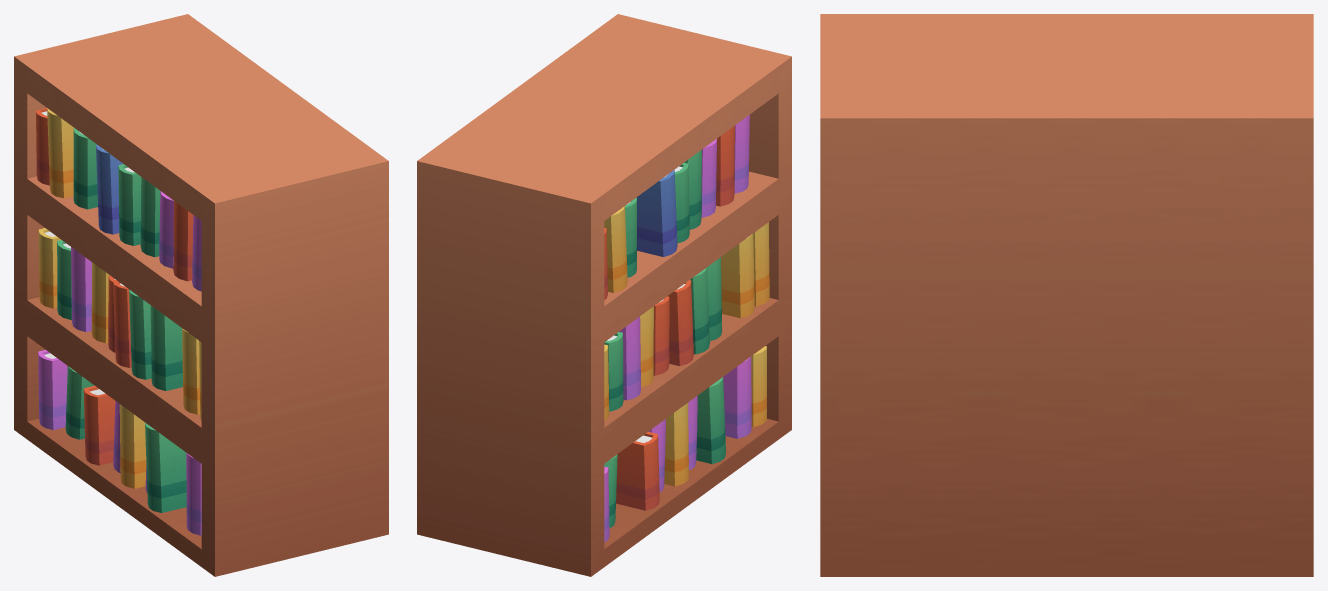
Rendered from bookshelf.fbx.
3 renders of one model, left to right at view 1: azimuth 30°, elevation 25°; view 2: azimuth 150°, elevation 25°; view 3: azimuth 270°, elevation 25°, orthographic. The views are drawn at different scales.
Visible parts, largest first — view 1: bookshelf, bookshelf-books-2, bookshelf-books-1, bookshelf-books-3; view 2: bookshelf, bookshelf-books-2, bookshelf-books-3, bookshelf-books-1; view 3: bookshelf.
Boxes of the visible parts, x1,y1,x2,y2 form: bookshelf: (14, 14, 388, 576); bookshelf-books-2: (38, 228, 201, 420); bookshelf-books-1: (36, 108, 201, 291); bookshelf-books-3: (38, 349, 201, 535); bookshelf: (417, 14, 791, 576); bookshelf-books-2: (604, 222, 769, 420); bookshelf-books-3: (604, 346, 766, 542); bookshelf-books-1: (604, 114, 749, 299); bookshelf: (820, 14, 1313, 576).
Size of the model in its own units: 0.2749 by 0.5498 by 0.5638.
